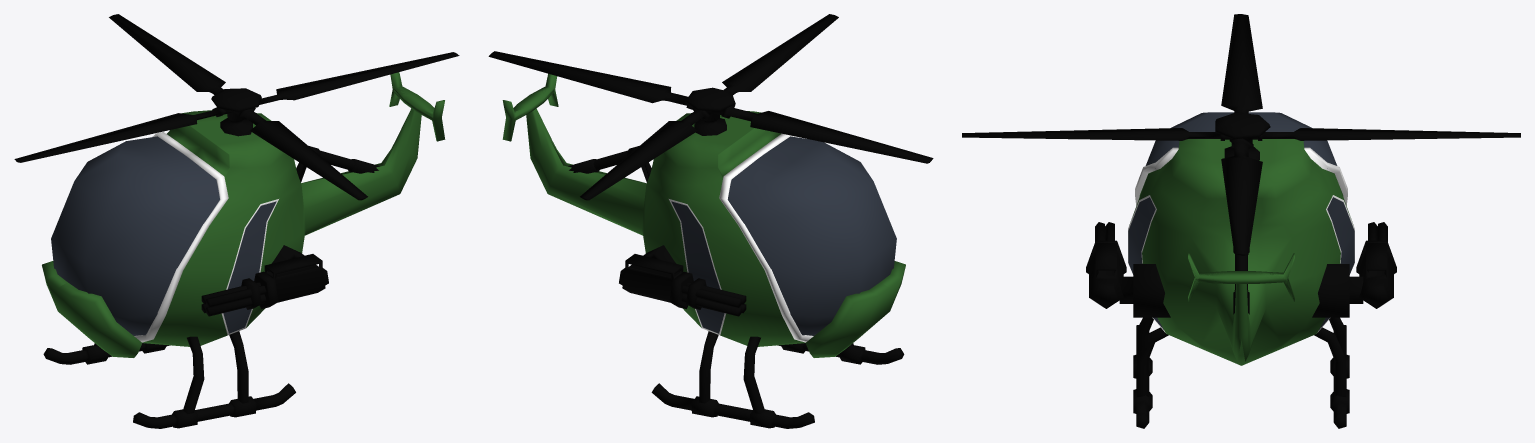
Rendered from helicopter.fbx.
3 views of the same model, side by side, from view 1: azimuth 30°, elevation 25°; view 2: azimuth 150°, elevation 25°; view 3: azimuth 270°, elevation 25° (orthographic). The views are drawn at different scales.
Parts seen in each view (by area): view 1: helicopter, blades, legs, rocket launcher.001; view 2: helicopter, blades, legs, rocket launcher.001; view 3: helicopter, blades, rocket launcher.001, legs.
Part boxes in pixels (x1,y1,x2,y2): helicopter: (42, 72, 445, 357); blades: (14, 14, 459, 200); legs: (43, 331, 295, 428); rocket launcher.001: (201, 245, 328, 316); helicopter: (502, 73, 905, 357); blades: (488, 14, 933, 200); legs: (651, 331, 904, 428); rocket launcher.001: (619, 245, 746, 316); helicopter: (1128, 112, 1354, 365); blades: (962, 14, 1520, 255); rocket launcher.001: (1086, 222, 1396, 317); legs: (1133, 317, 1349, 428).
Size of the model in its own units: 294 by 179 by 289.
